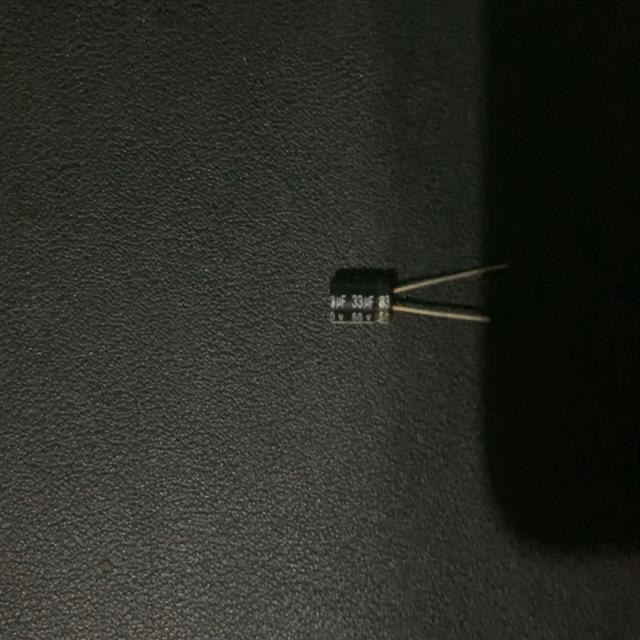capacitor: (325, 256, 512, 336)
